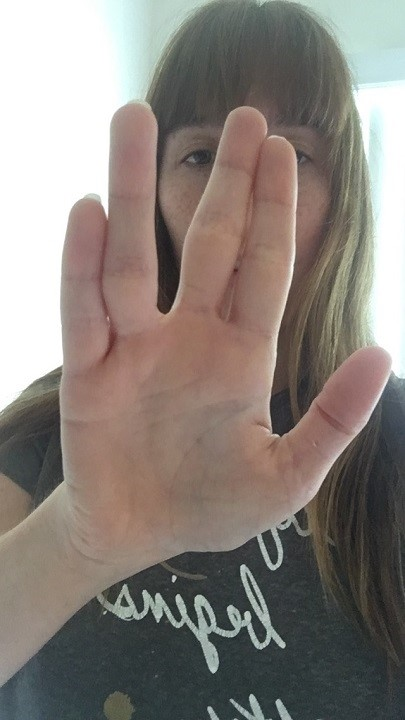hand: (59, 101, 394, 562)
